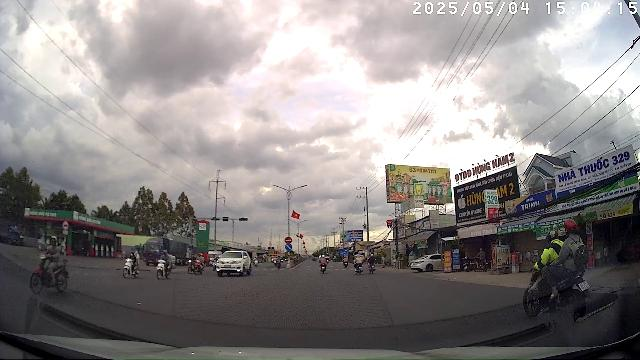102-cam-di-nguoc-chieu: (284, 237, 292, 243)
302a-huong-phai-di-vong-chuong-ngai-vat-1: (286, 244, 292, 250)
